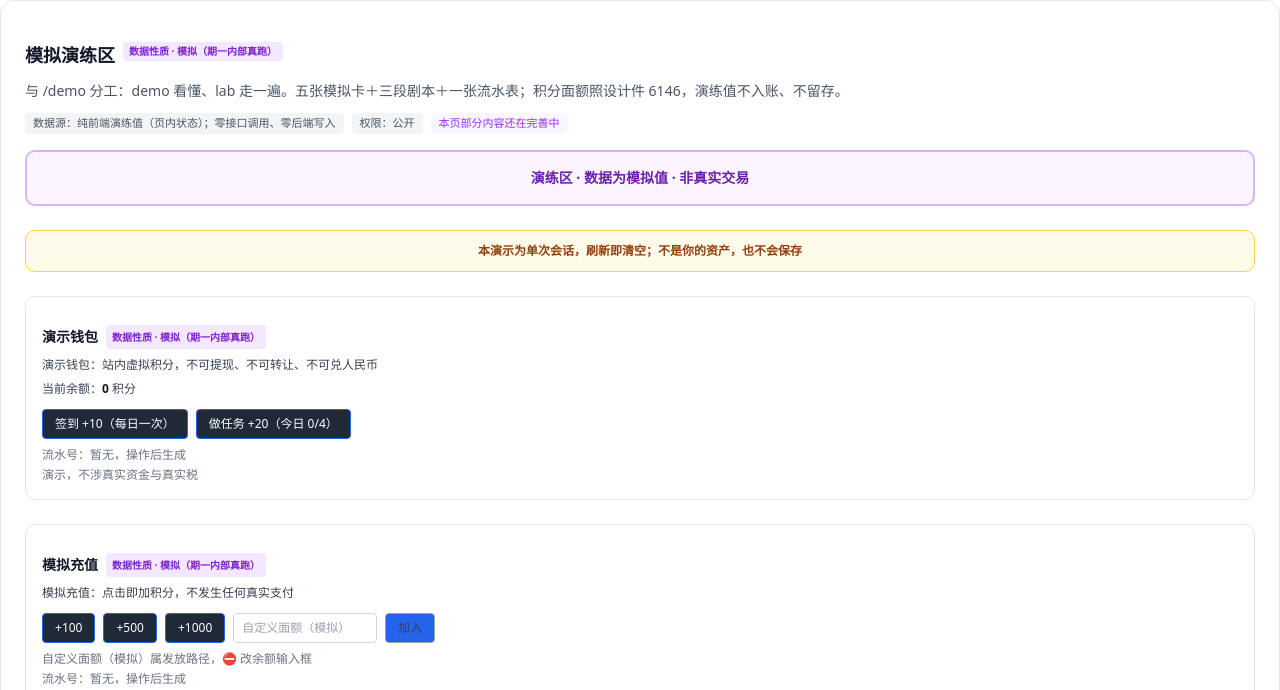
Test: B26 演练区：发放入口（签到／任务／充值） › 签到 +10，每日一次拦截
Click the button with test id "lab-checkin" at x=115, y=424, box x1=42 y1=408 x2=188 y2=438
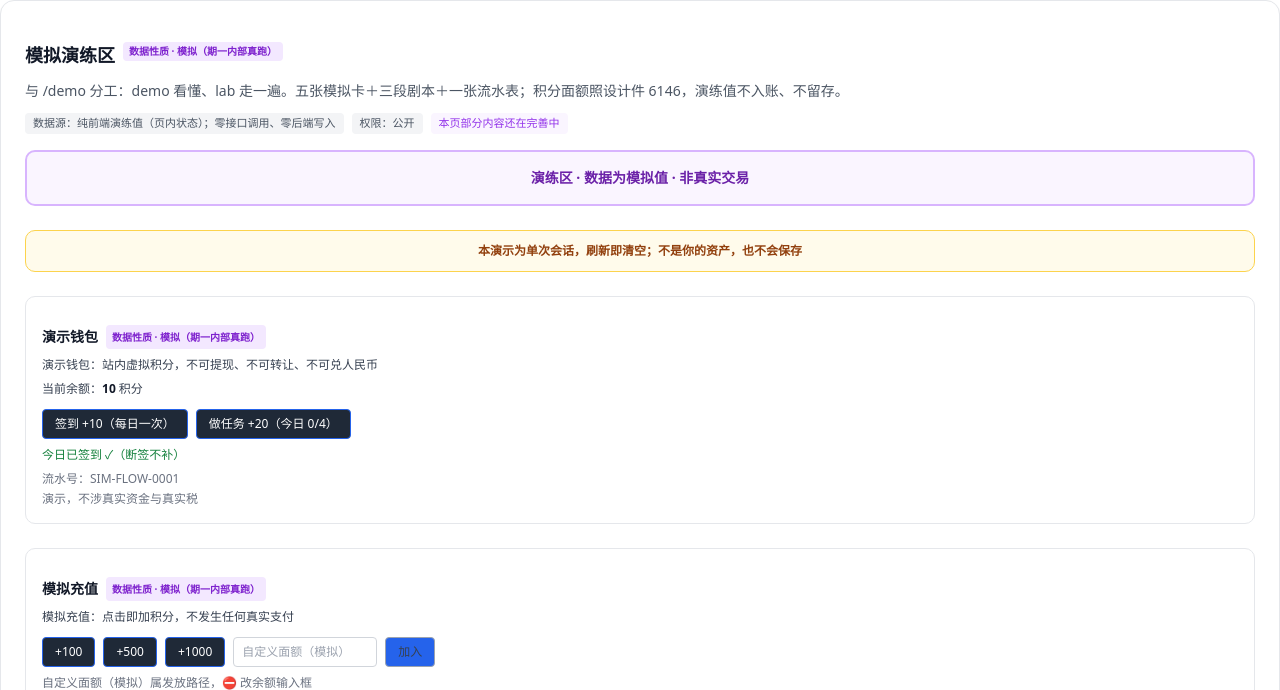
Expected: the text with test id "lab-balance" reads "10", x1=102 y1=380 x2=116 y2=396
Click the button with test id "lab-checkin" at x=115, y=424, box x1=42 y1=408 x2=188 y2=438
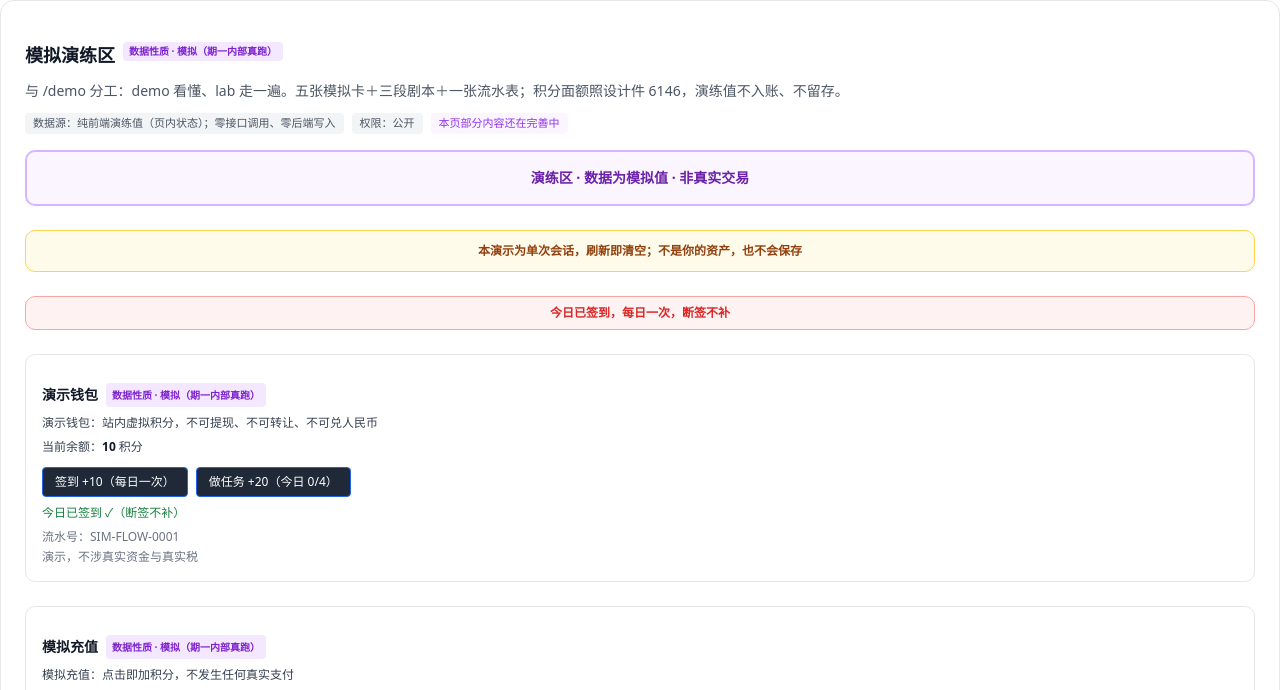
Expected: the text with test id "lab-balance" reads "10", x1=102 y1=438 x2=116 y2=454
Expected: the text with test id "lab-block-msg" shows "今日已签到", x1=550 y1=304 x2=730 y2=320
